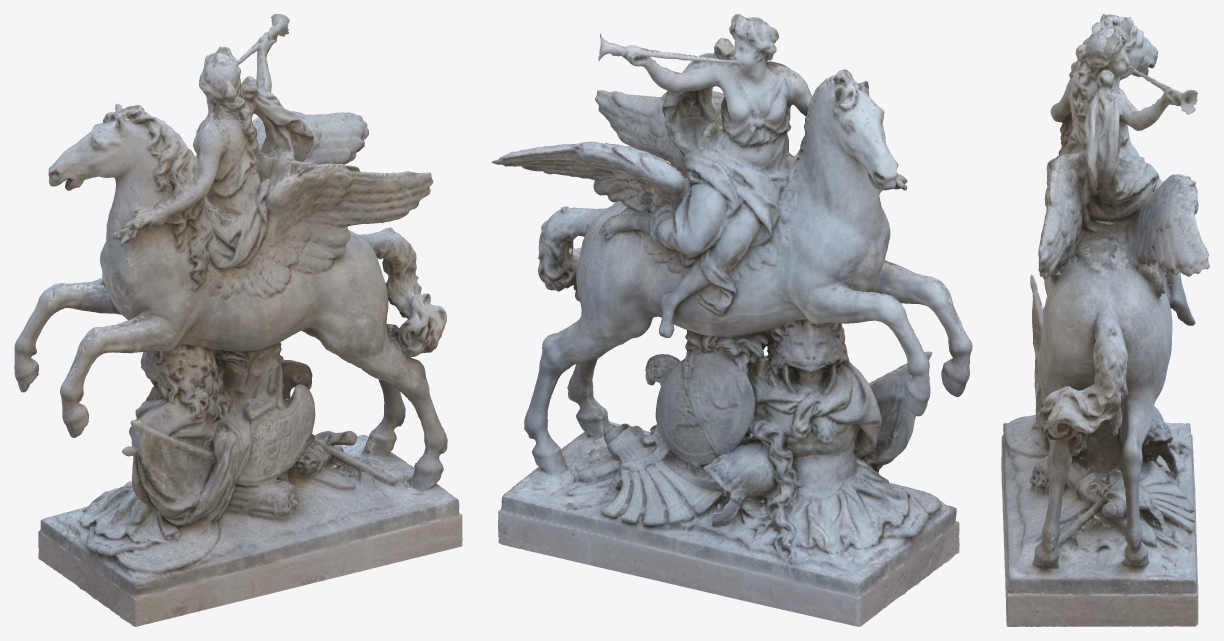
Rendered from statueLaRenommee.glb.
3 renders of one model, left to right at view 1: azimuth 30°, elevation 25°; view 2: azimuth 150°, elevation 25°; view 3: azimuth 270°, elevation 25°, orthographic. The views are drawn at different scales.
Bounding box in the file's own units: 16.41 × 20.4 × 7.6.
Materials: 1 (1 with a texture image).
